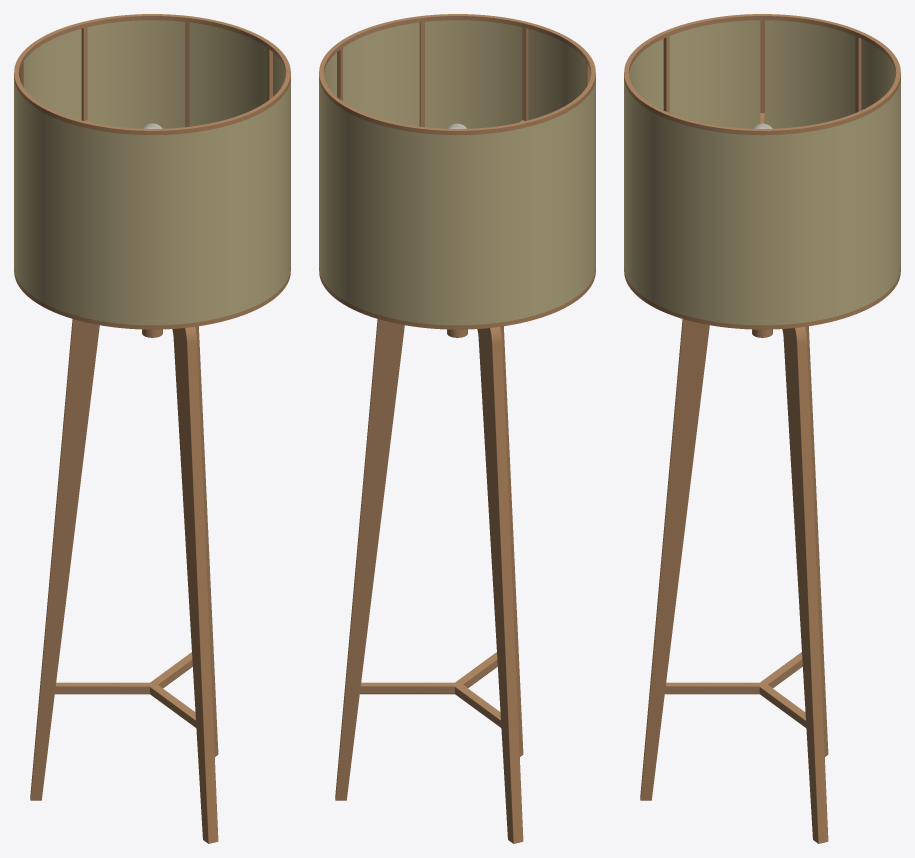
The model's file is luminaria-de-chao-furmint.glb.
3 views of the same model, side by side, from view 1: azimuth 30°, elevation 25°; view 2: azimuth 150°, elevation 25°; view 3: azimuth 270°, elevation 25° (orthographic).
Visible parts, largest first — view 1: object 24, object 6, object 1, object 23, object 5, object 3, object 22, object 14, object 16; view 2: object 24, object 1, object 3, object 23, object 5, object 6, object 22, object 19, object 15; view 3: object 24, object 3, object 6, object 23, object 5, object 1, object 22, object 18, object 21.
Part boxes in pixels (x1,y1,x2,y2): object 24: (14,20,290,325); object 6: (172,327,218,843); object 1: (30,319,99,800); object 23: (14,14,290,135); object 5: (55,652,196,727); object 3: (195,326,218,756); object 22: (14,267,290,329); object 14: (81,27,87,120); object 16: (185,22,190,127); object 24: (319,20,595,325); object 1: (477,327,523,843); object 3: (335,319,404,800); object 23: (319,14,595,135); object 5: (360,652,501,727); object 6: (500,326,523,756); object 22: (319,267,595,329); object 19: (522,27,528,120); object 15: (419,22,424,127); object 24: (624,20,900,325); object 3: (782,327,828,843); object 6: (640,319,709,800); object 23: (624,14,900,135); object 5: (665,652,806,727); object 1: (805,326,828,756); object 22: (624,268,900,329); object 18: (855,36,861,112); object 21: (663,36,669,112).
Bounding box in the file's own units: 0.594 × 1.72 × 0.594.
